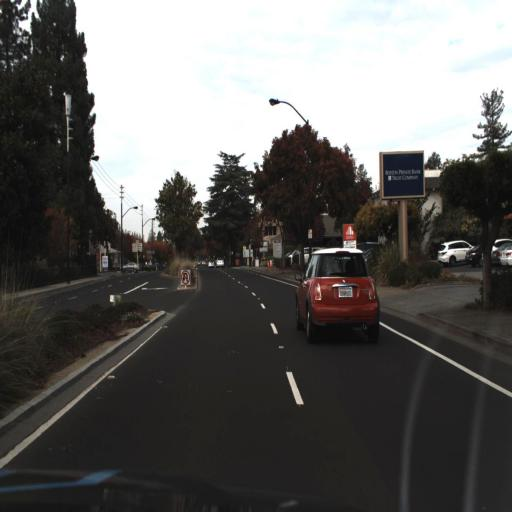car: (294, 248, 382, 343), (436, 237, 475, 267), (464, 240, 486, 264), (120, 261, 140, 274), (216, 254, 224, 268)
